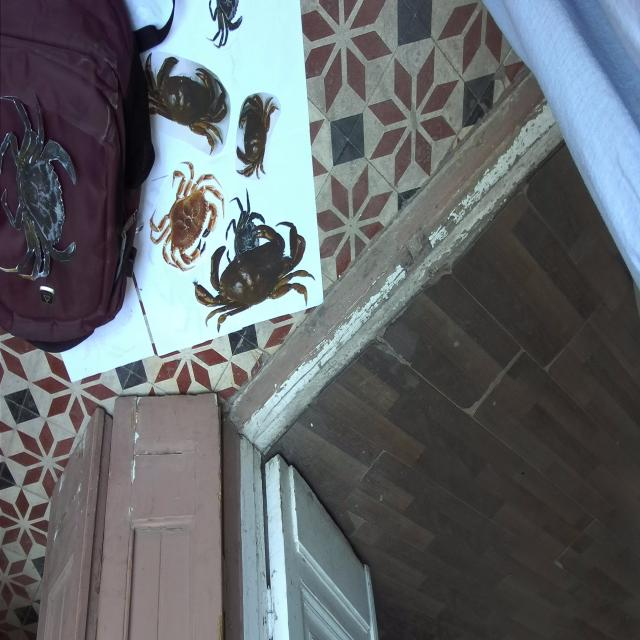European_Green_Crab: (1, 93, 76, 277), (221, 185, 265, 258), (207, 0, 242, 47)
